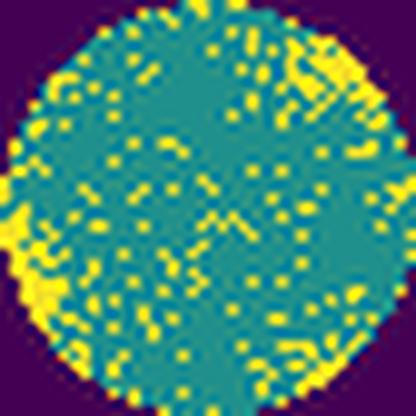Edge-Loc: (0, 196, 77, 354), (301, 26, 390, 116)
